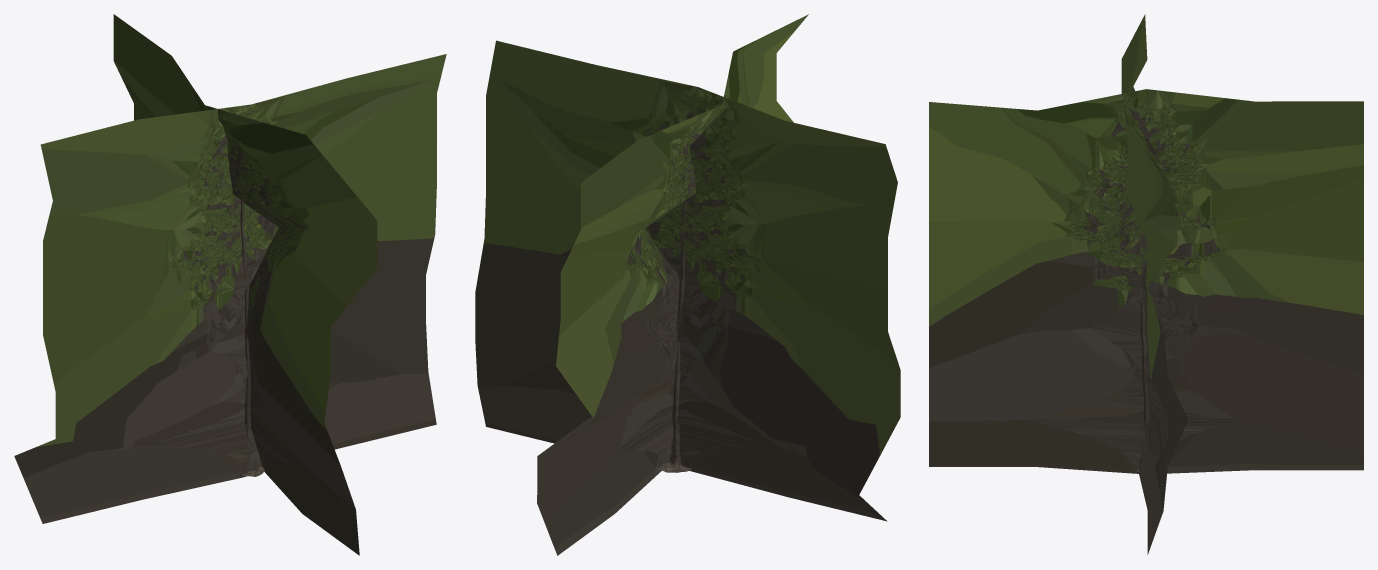
The model's file is fir_tree_01-c-mirrored-lod2.glb.
3 views of the same model, side by side, from view 1: azimuth 30°, elevation 25°; view 2: azimuth 150°, elevation 25°; view 3: azimuth 270°, elevation 25° (orthographic). The views are drawn at different scales.
Visible parts, largest first — view 1: fir_tree_01.c-mirrored.lod2.foliage, fir_tree_01.c-mirrored.lod2.bark; view 2: fir_tree_01.c-mirrored.lod2.foliage, fir_tree_01.c-mirrored.lod2.bark; view 3: fir_tree_01.c-mirrored.lod2.foliage, fir_tree_01.c-mirrored.lod2.bark.
Part boxes in pixels (x1,y1,x2,y2): fir_tree_01.c-mirrored.lod2.foliage: (14, 14, 446, 555); fir_tree_01.c-mirrored.lod2.bark: (240, 200, 264, 476); fir_tree_01.c-mirrored.lod2.foliage: (475, 14, 900, 555); fir_tree_01.c-mirrored.lod2.bark: (656, 200, 691, 472); fir_tree_01.c-mirrored.lod2.foliage: (929, 14, 1363, 554); fir_tree_01.c-mirrored.lod2.bark: (1135, 302, 1148, 471).
Size of the model in its own units: 16.01 by 14.55 by 16.01.
Materials: 2 (2 with a texture image).
